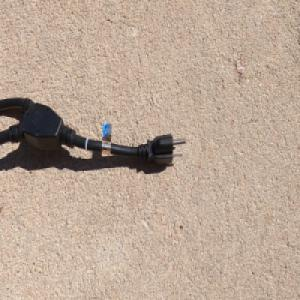Wire: (0, 94, 188, 166)
